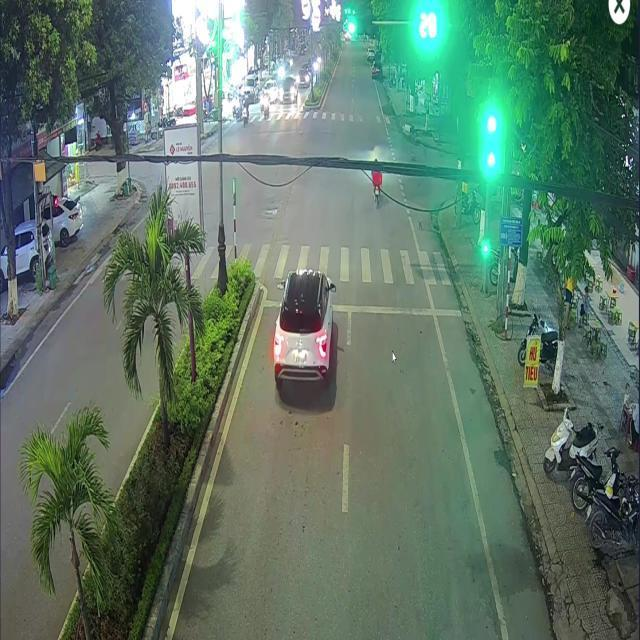car: (272, 268, 337, 391)
green_light: (484, 110, 499, 175), (345, 13, 372, 38)
stop_line: (262, 299, 460, 316)
